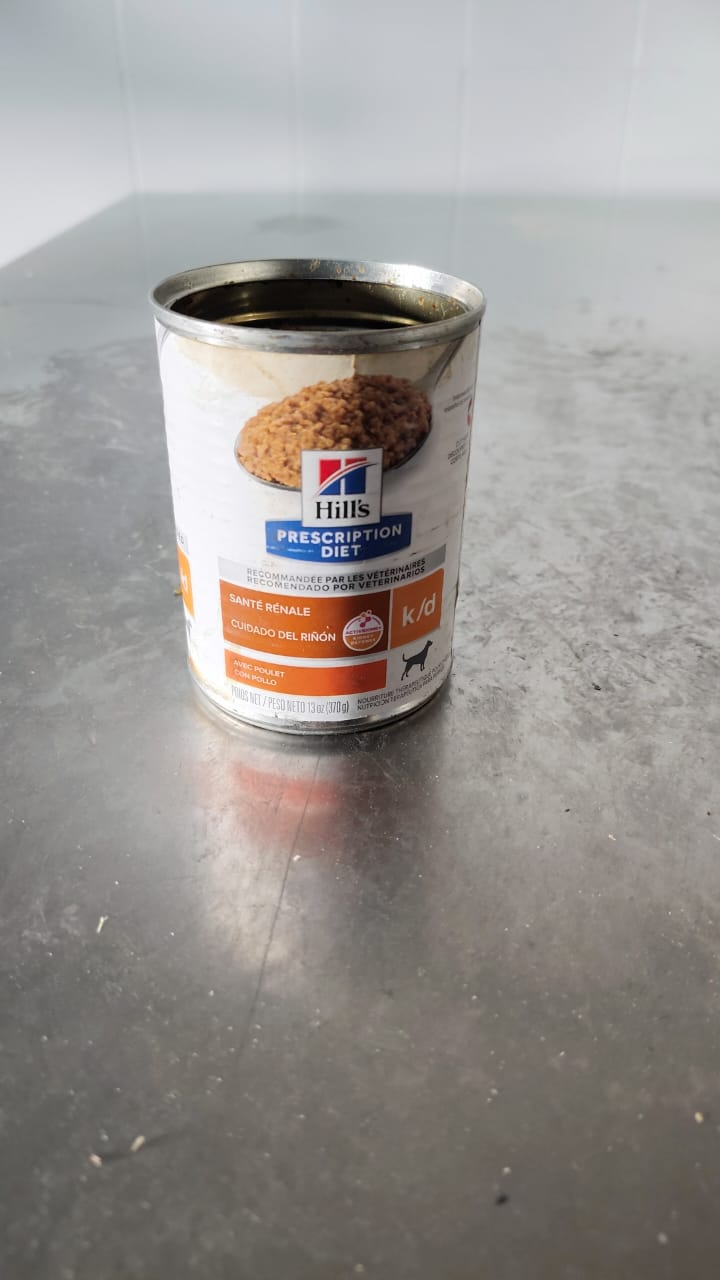Metal: (154, 261, 484, 741)
